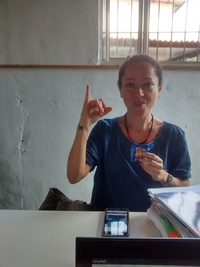oi: (79, 80, 114, 124)
